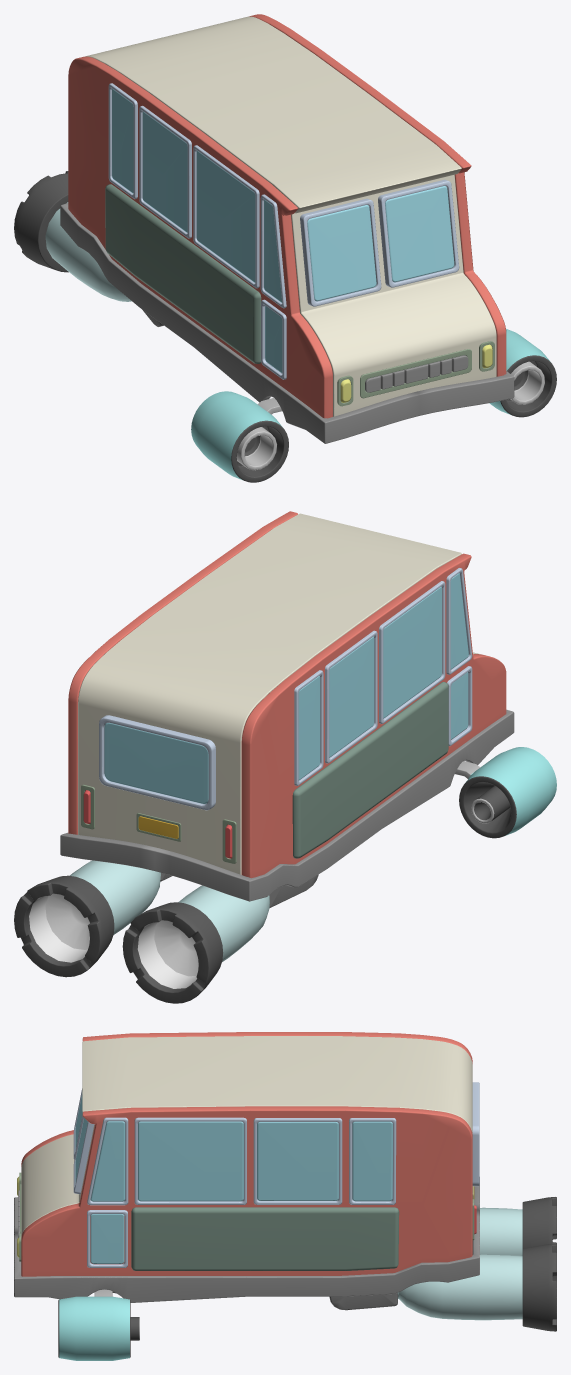
File: SM_Car_01.fbx
3 views of the same model, one above another, from view 1: azimuth 30°, elevation 25°; view 2: azimuth 150°, elevation 25°; view 3: azimuth 270°, elevation 25° (orthographic). The views are drawn at different scales.
Visible parts, largest first — view 1: SM_Car_01; view 2: SM_Car_01; view 3: SM_Car_01.
Boxes of the visible parts, bbox=[...] form: SM_Car_01: bbox=[14, 14, 556, 482]; SM_Car_01: bbox=[14, 511, 556, 1003]; SM_Car_01: bbox=[14, 1032, 556, 1360].
Bounding box in the file's own units: 11.38 × 8.71 × 18.36.
